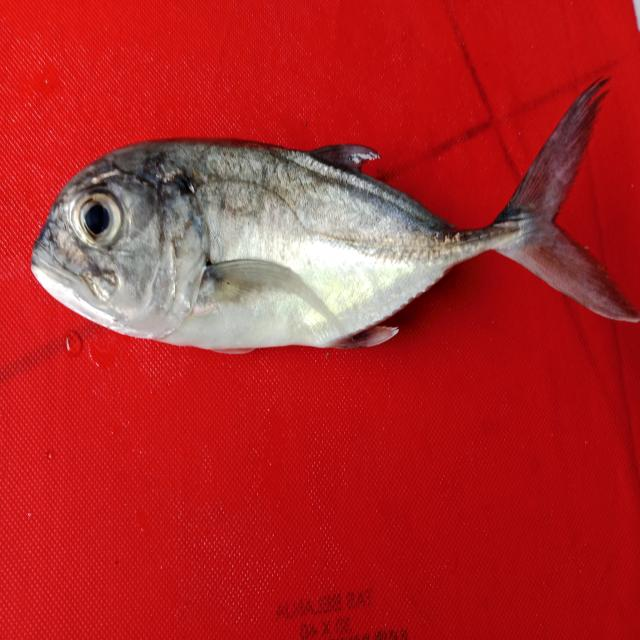ikan: (25, 62, 631, 371)
